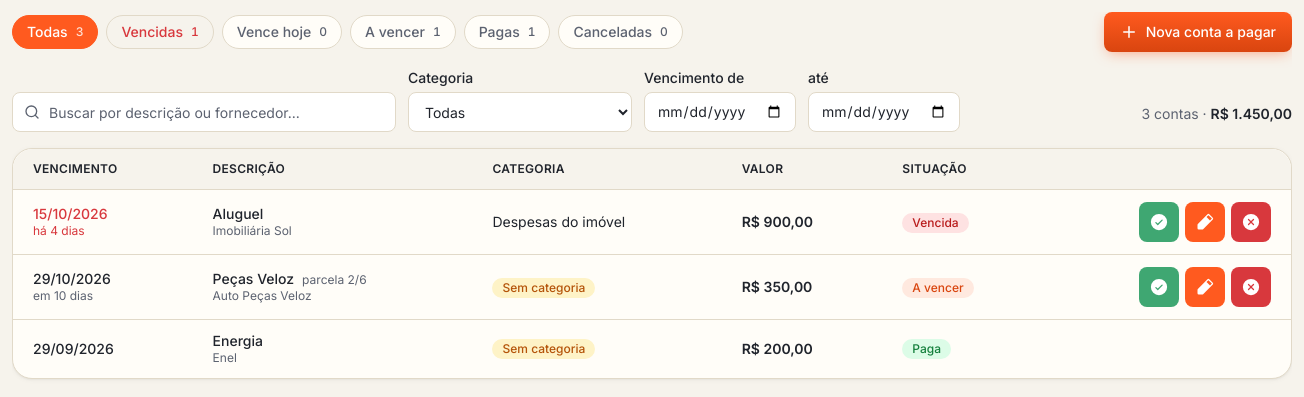
Test case: ContasTab › shows the category of each account, flags the unclassified ones and filters by category
Expected: the text "Despesas do imóvel" is shown, [492,213,625,230]
Expected: the text "Sem categoria" in the row of "29/10/2026" is shown, [502,280,585,294]
Select "Sem categoria (2)" in the dropdown labelled "Categoria": [520, 112] box [408,92,632,132]
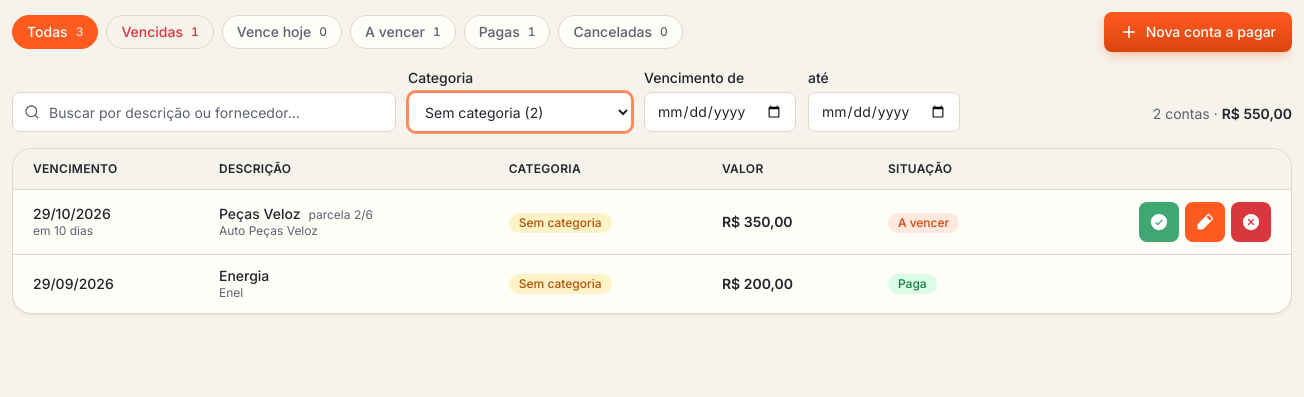
Expected: the text "parcela 2/6" is shown, [308,207,373,222]
Now the text "Aluguel" is gone
Select "Despesas do imóvel" in the dropdown labelled "Categoria": [520, 112] box [408,92,632,132]
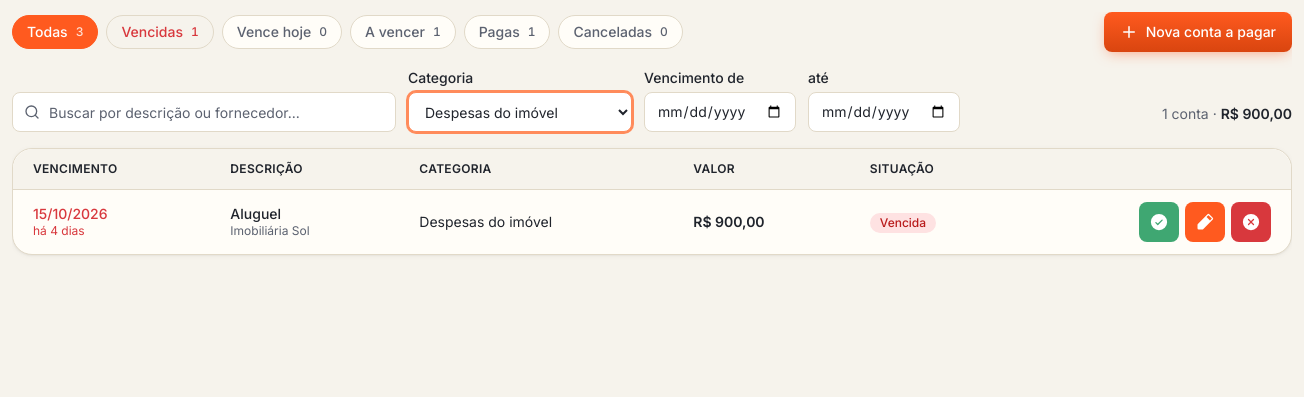
Now the text "Aluguel" is shown, box [230,205,281,222]
Now the text "parcela 2/6" is gone
